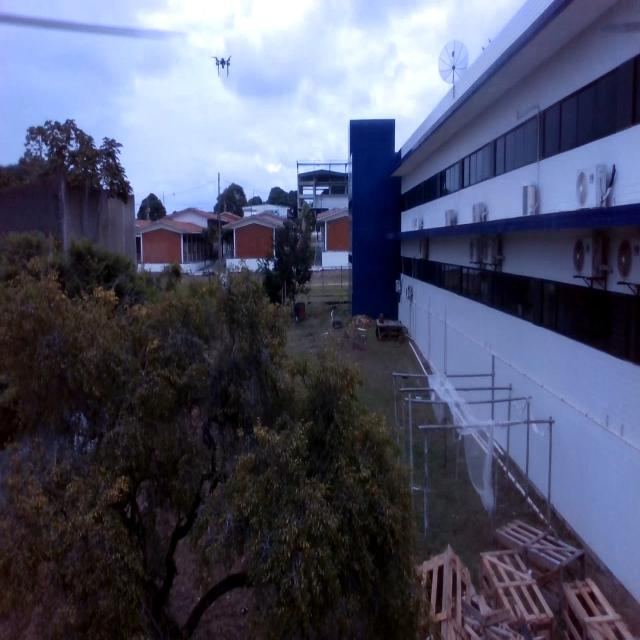-uav-: (211, 49, 234, 81)
